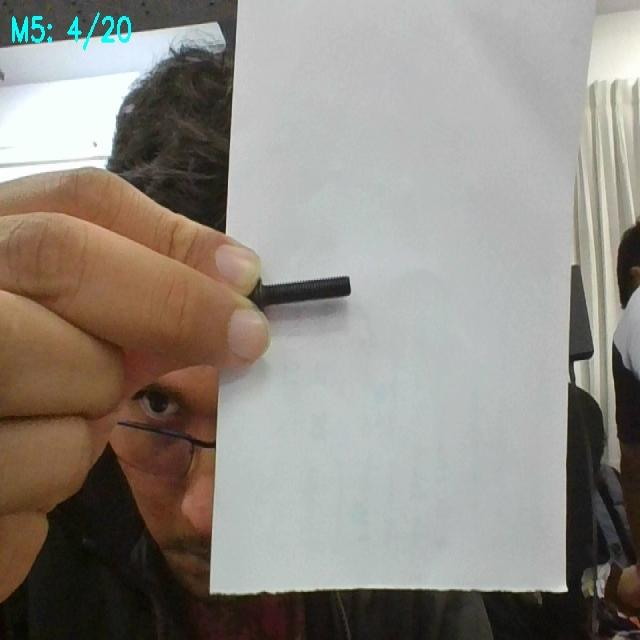vastago: (261, 276, 351, 305)
